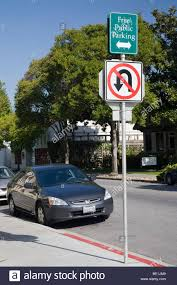No_u_turn: (107, 63, 141, 100)
